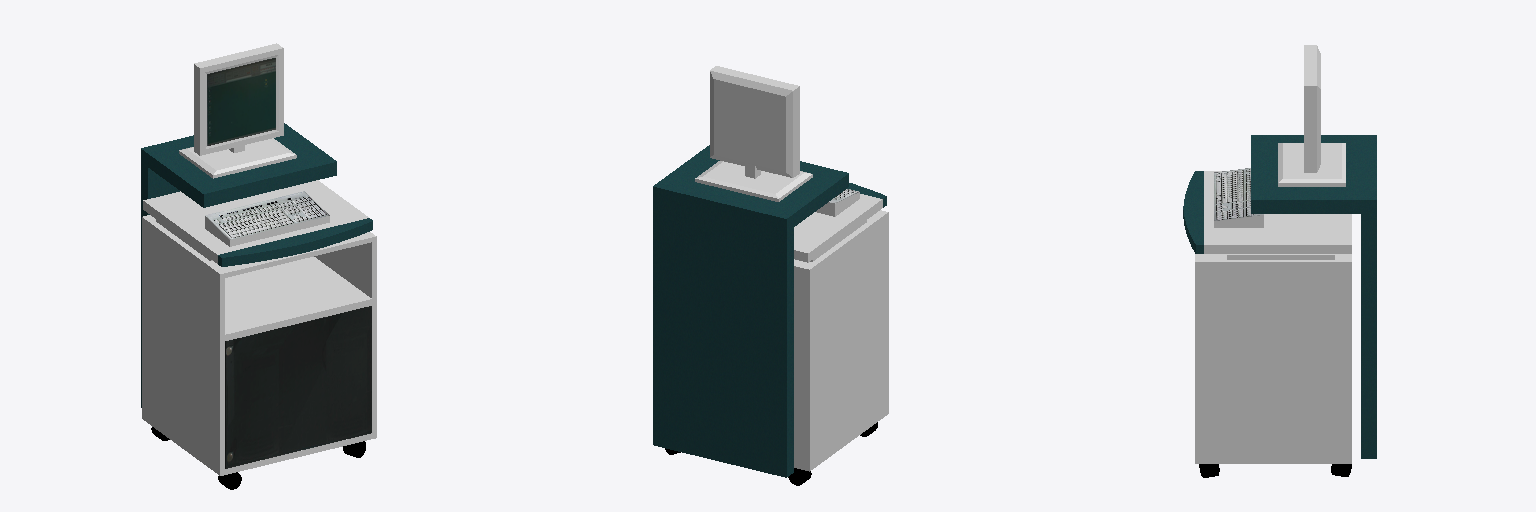
3 views of the same model, side by side, from view 1: azimuth 30°, elevation 25°; view 2: azimuth 150°, elevation 25°; view 3: azimuth 270°, elevation 25° (orthographic).
Parts seen in each view (by area): view 1: object2, object6, object1, object10, object11, object5, object4; view 2: object1, object2, object10; view 3: object2, object1, object10, object5.
Boxes of the visible parts, box(x1,y1,x2,y2) form: object2: box(142, 180, 376, 475); object6: box(225, 306, 371, 468); object1: box(141, 123, 372, 407); object10: box(179, 43, 296, 178); object11: box(207, 58, 275, 145); object5: box(205, 191, 329, 239); object4: box(151, 427, 365, 489); object1: box(653, 145, 886, 477); object2: box(794, 192, 888, 471); object10: box(695, 66, 812, 201); object2: box(1195, 171, 1351, 463); object1: box(1183, 135, 1376, 458); object10: box(1278, 45, 1345, 186); object5: box(1214, 168, 1263, 220).
Bounding box in the file's own units: 28.1 × 65.16 × 30.14.
Materials: 11 (6 with a texture image).